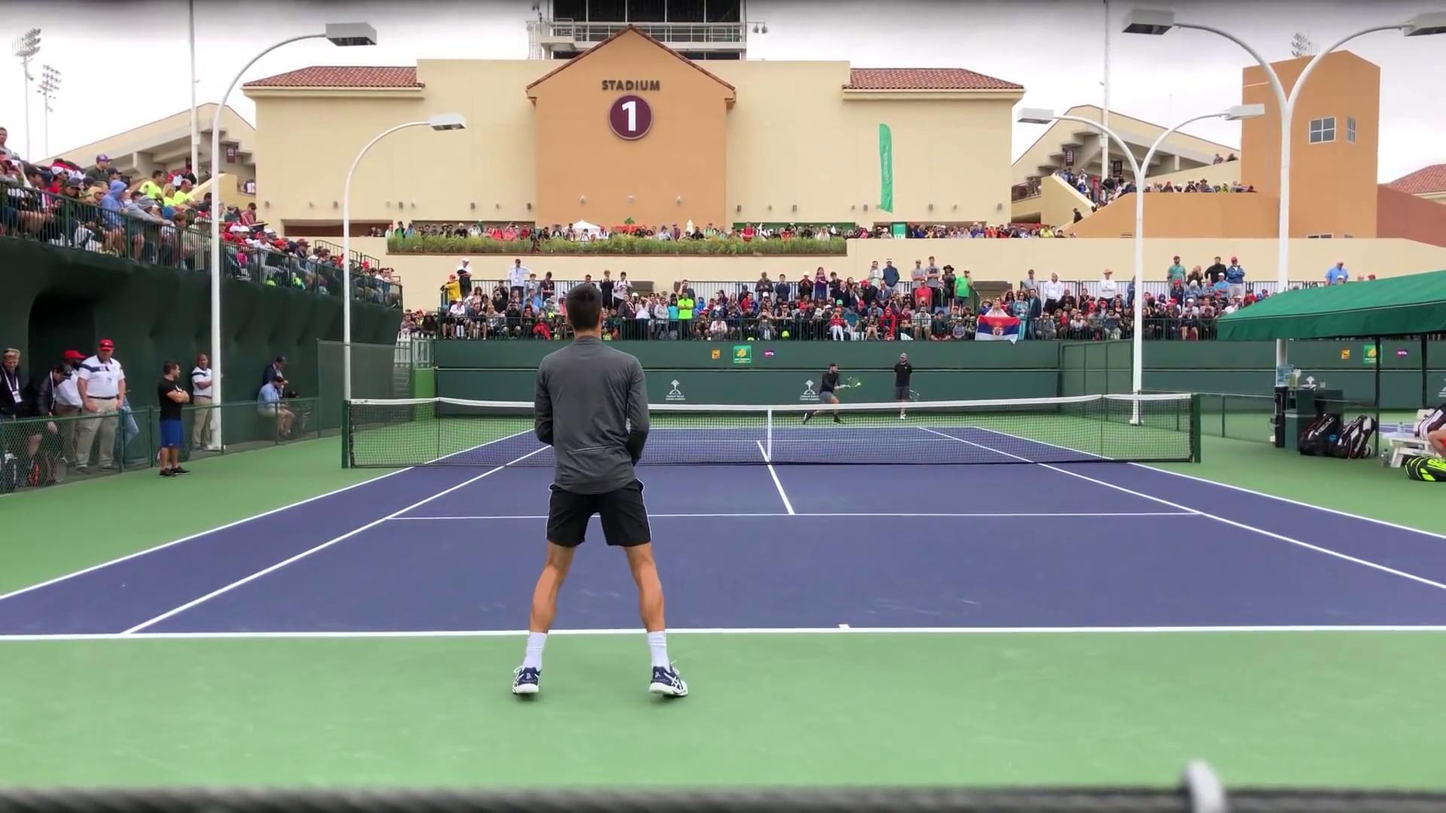ball: (856, 382, 862, 387)
